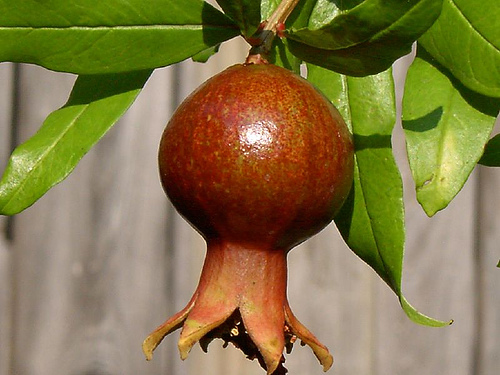pomogranate: (142, 63, 354, 374)
